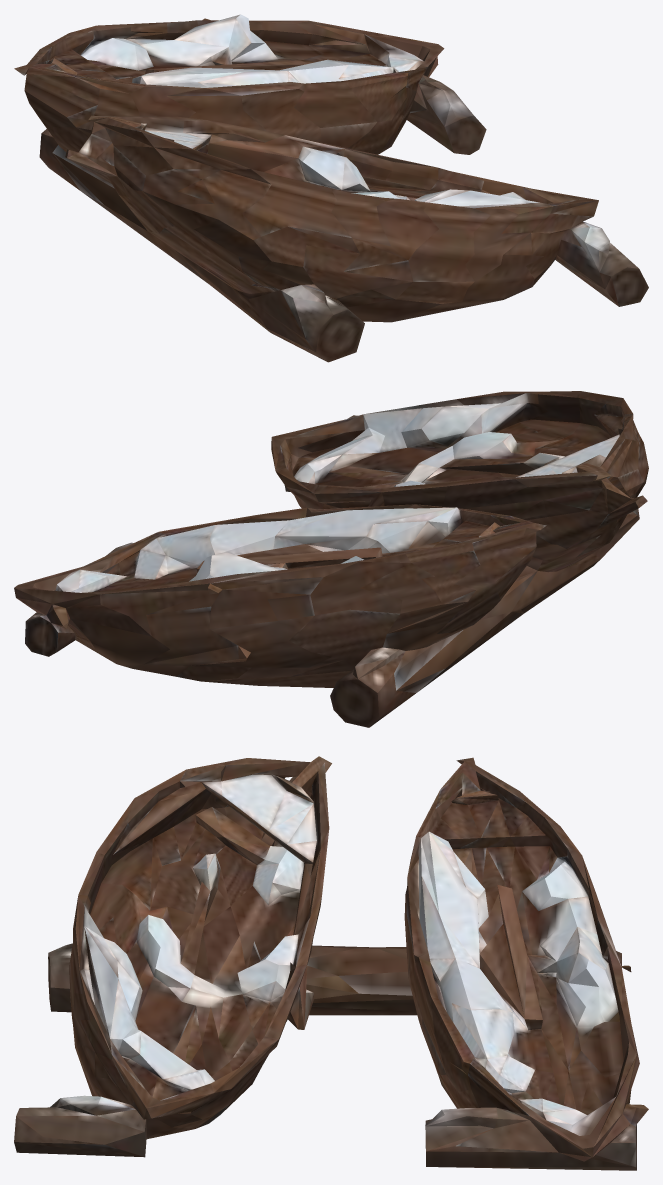
The model's file is iceboats.glb.
The picture shows the model from 3 angles, top to bottom: view 1: azimuth 30°, elevation 25°; view 2: azimuth 150°, elevation 25°; view 3: azimuth 270°, elevation 25°; orthographic projection. The views are drawn at different scales.
Bounding box in the file's own units: 1.86 × 0.6505 × 1.9.
1 material, 1 textured.
